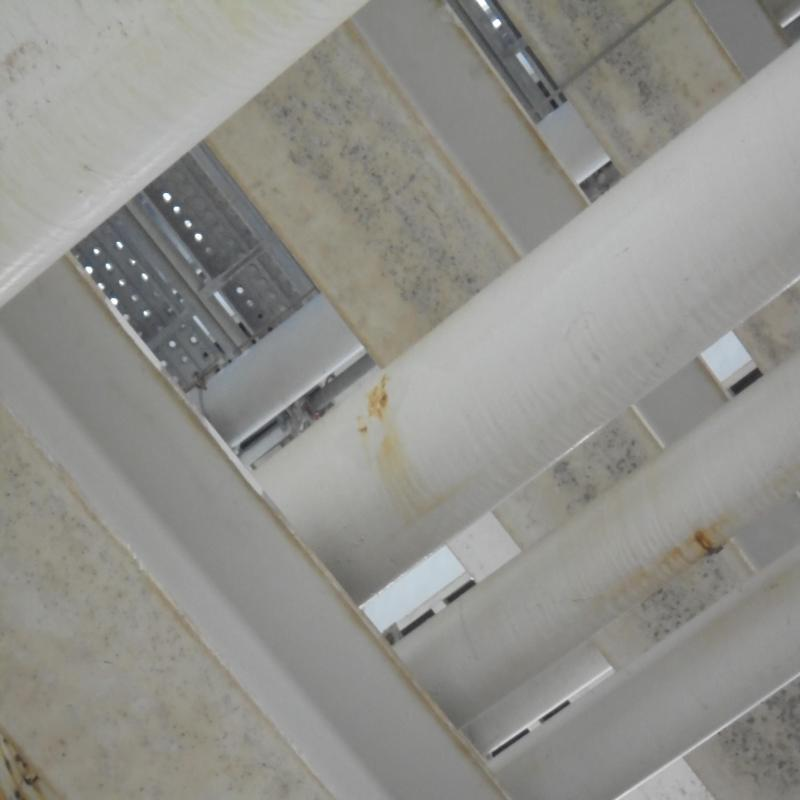corrosion: (696, 529, 722, 555), (372, 387, 392, 420)
